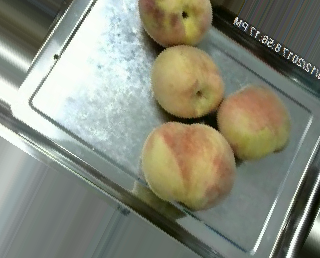Peach: (141, 121, 235, 209), (216, 82, 291, 162), (152, 44, 224, 119), (138, 0, 212, 46)
